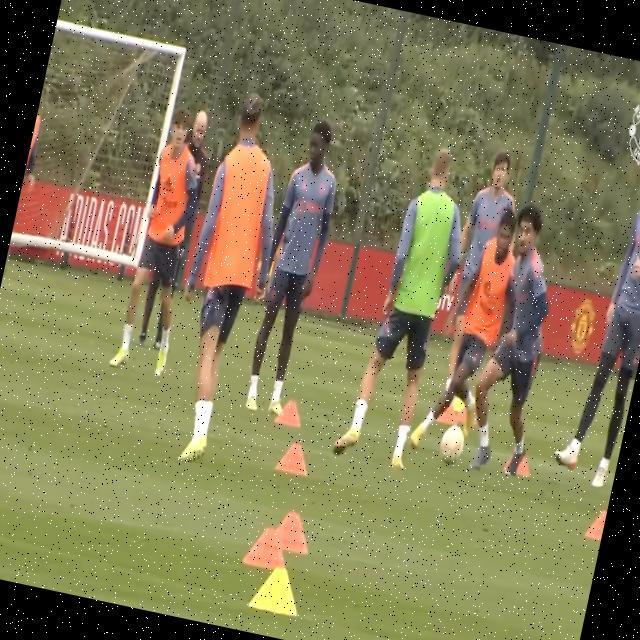Adidas: (480, 275, 496, 299), (162, 173, 177, 193)
